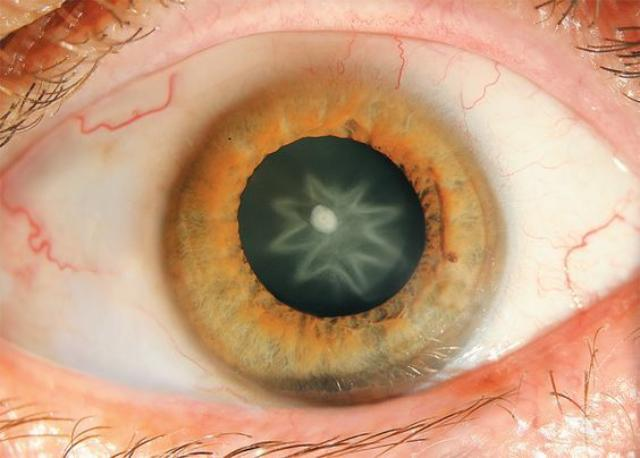eye: (176, 80, 502, 400)
